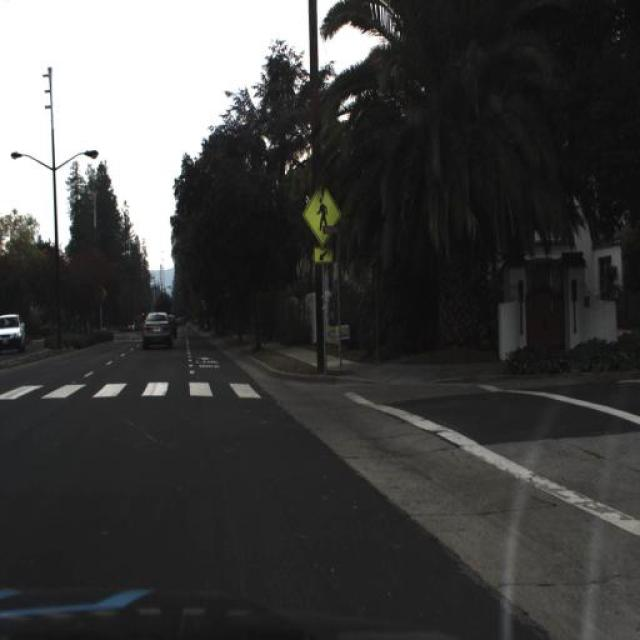car: (134, 300, 174, 362), (1, 312, 26, 356), (169, 306, 179, 346), (168, 309, 177, 349)
